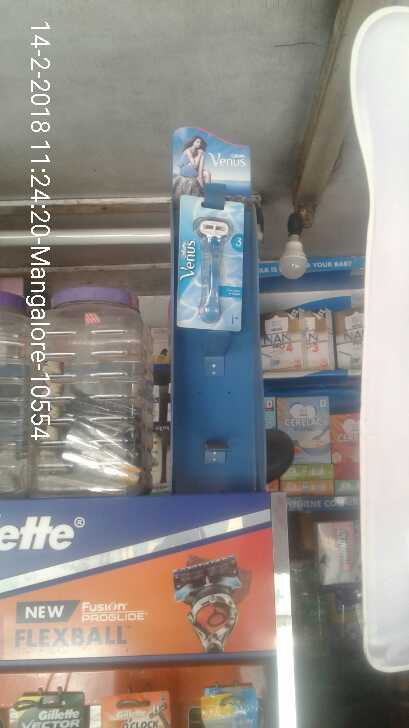venus: (181, 197, 244, 330)
